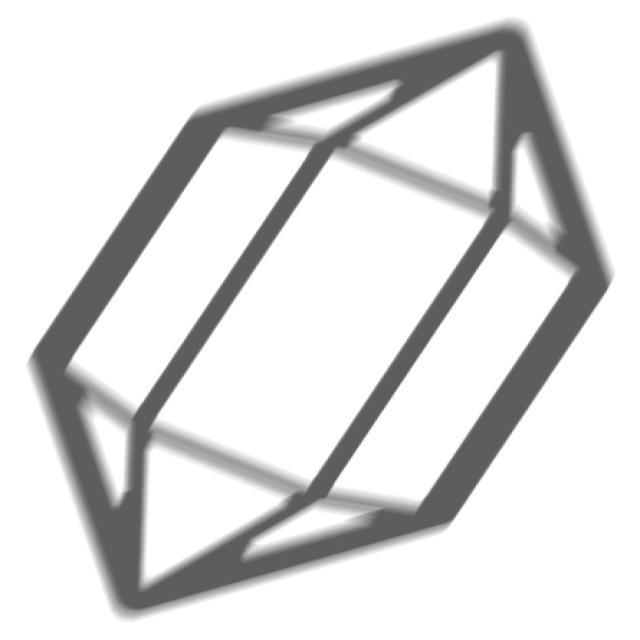crystal: (16, 12, 627, 631)
